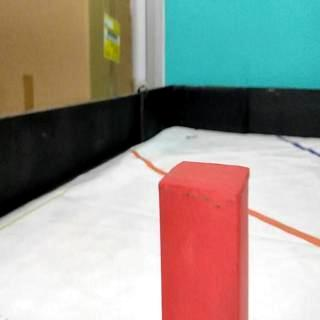redbox: (157, 159, 250, 320)
